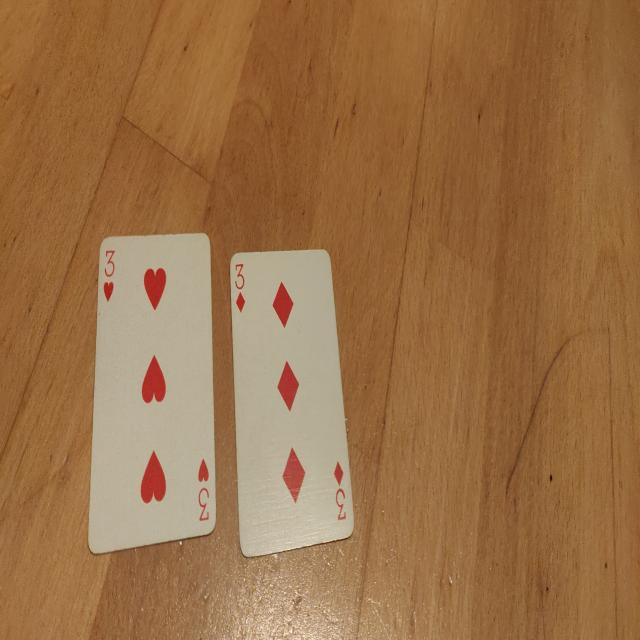Diamond: (282, 447, 306, 504), (277, 361, 299, 412), (272, 282, 294, 328), (334, 461, 343, 486), (236, 292, 245, 314)
Heart: (141, 450, 166, 504), (142, 354, 166, 404), (144, 268, 166, 311), (198, 458, 209, 482), (104, 282, 114, 302)
